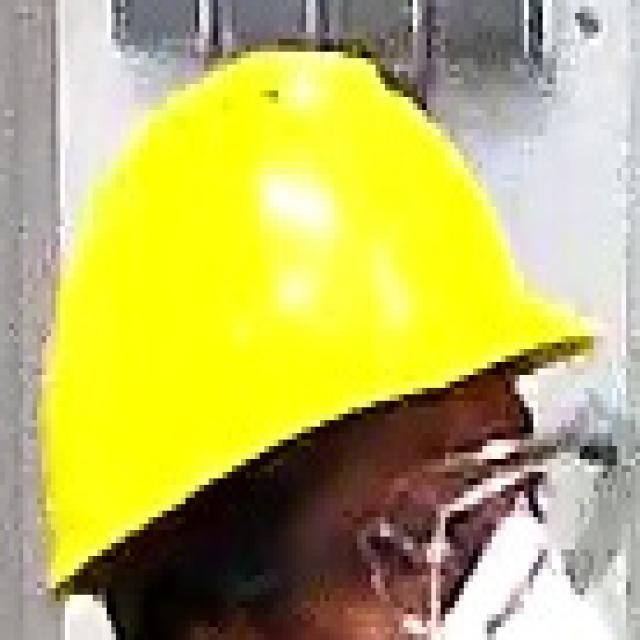yellow helmet: (24, 49, 614, 594)
